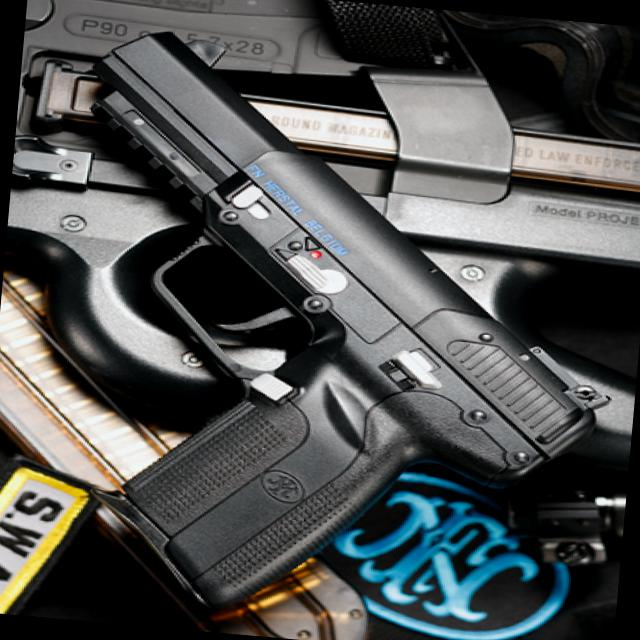handgun: (34, 22, 639, 639)
